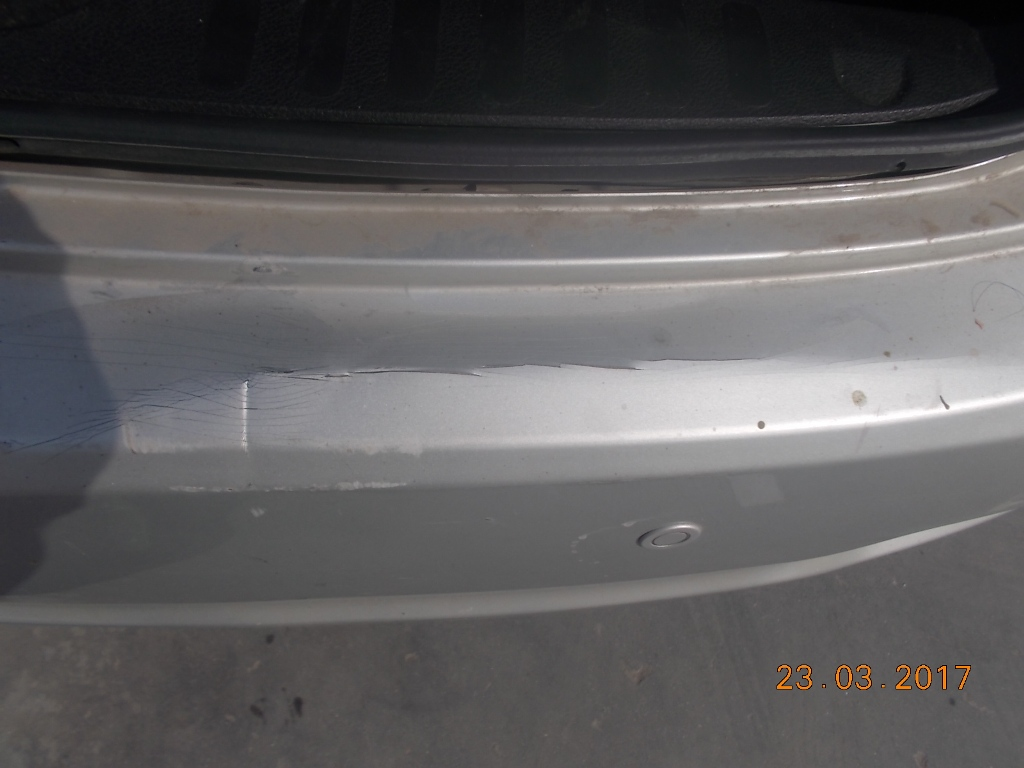Dent: (103, 304, 1000, 400)
